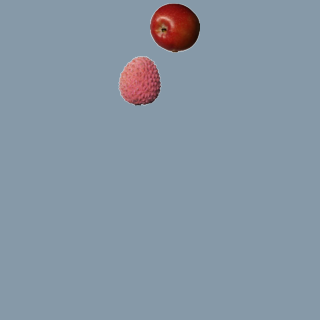Apple Braeburn: (149, 2, 199, 52)
Lychee: (114, 55, 164, 105)
